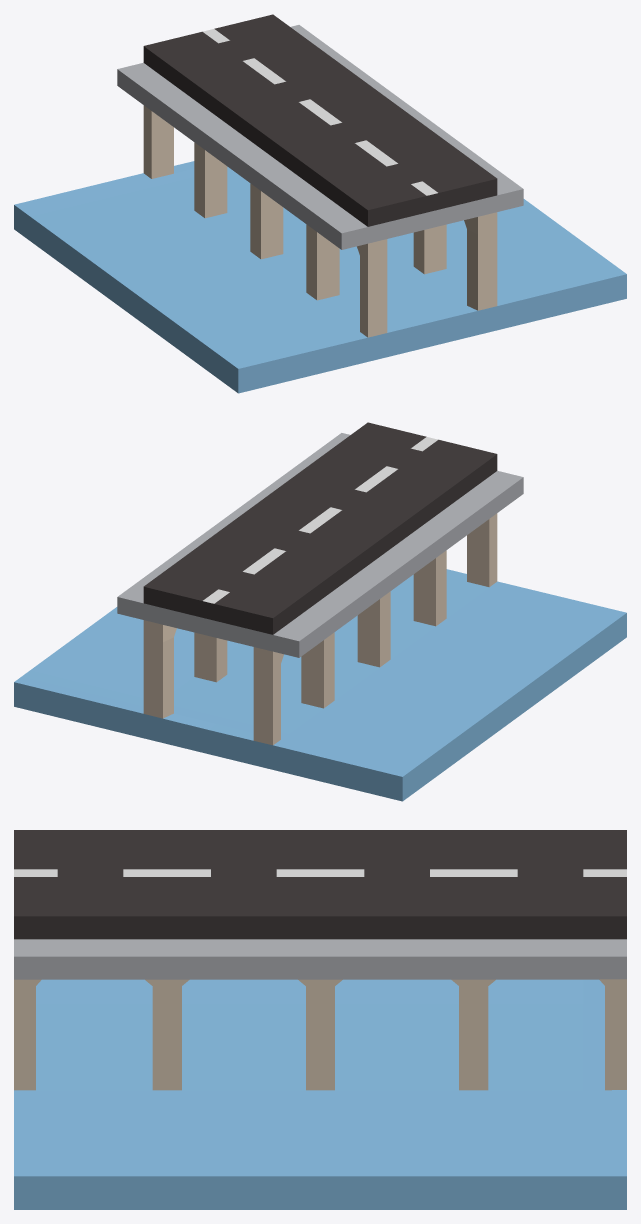
File: Street_Bridge_Water.fbx
The picture shows the model from 3 angles, top to bottom: view 1: azimuth 30°, elevation 25°; view 2: azimuth 150°, elevation 25°; view 3: azimuth 270°, elevation 25°; orthographic projection. The views are drawn at different scales.
Visible parts, largest first — view 1: Street_Bridge_Water; view 2: Street_Bridge_Water; view 3: Street_Bridge_Water.
Part boxes in pixels (x1,y1,x2,y2): Street_Bridge_Water: [14, 14, 626, 393]; Street_Bridge_Water: [14, 422, 626, 801]; Street_Bridge_Water: [14, 830, 626, 1209].
Bounding box in the file's own units: 200 × 74.59 × 200.
